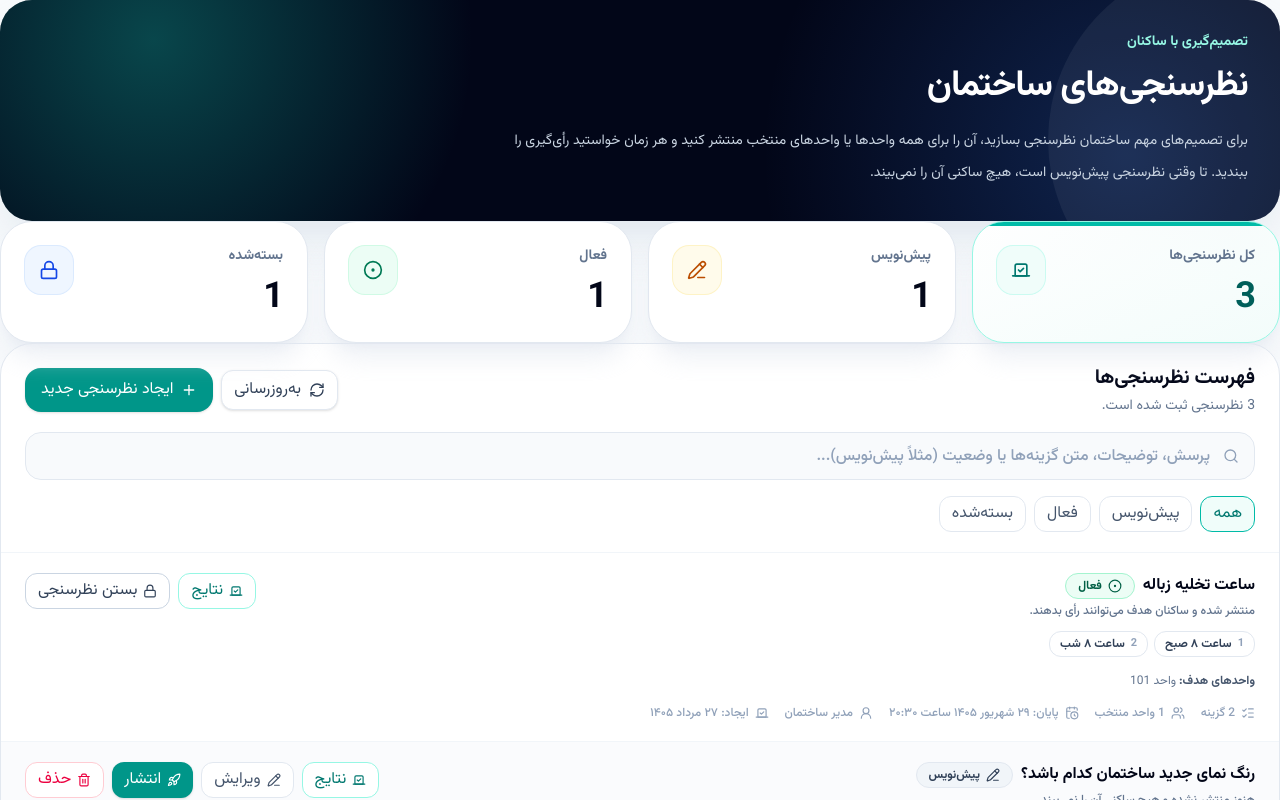
PollsSection › drops a deleted draft out of the list
Expected: the heading "رنگ نمای جدید ساختمان کدام باشد؟" is shown, [1021,763,1255,787]
Click the button "حذف" at (65,780), box [25,762,104,798]
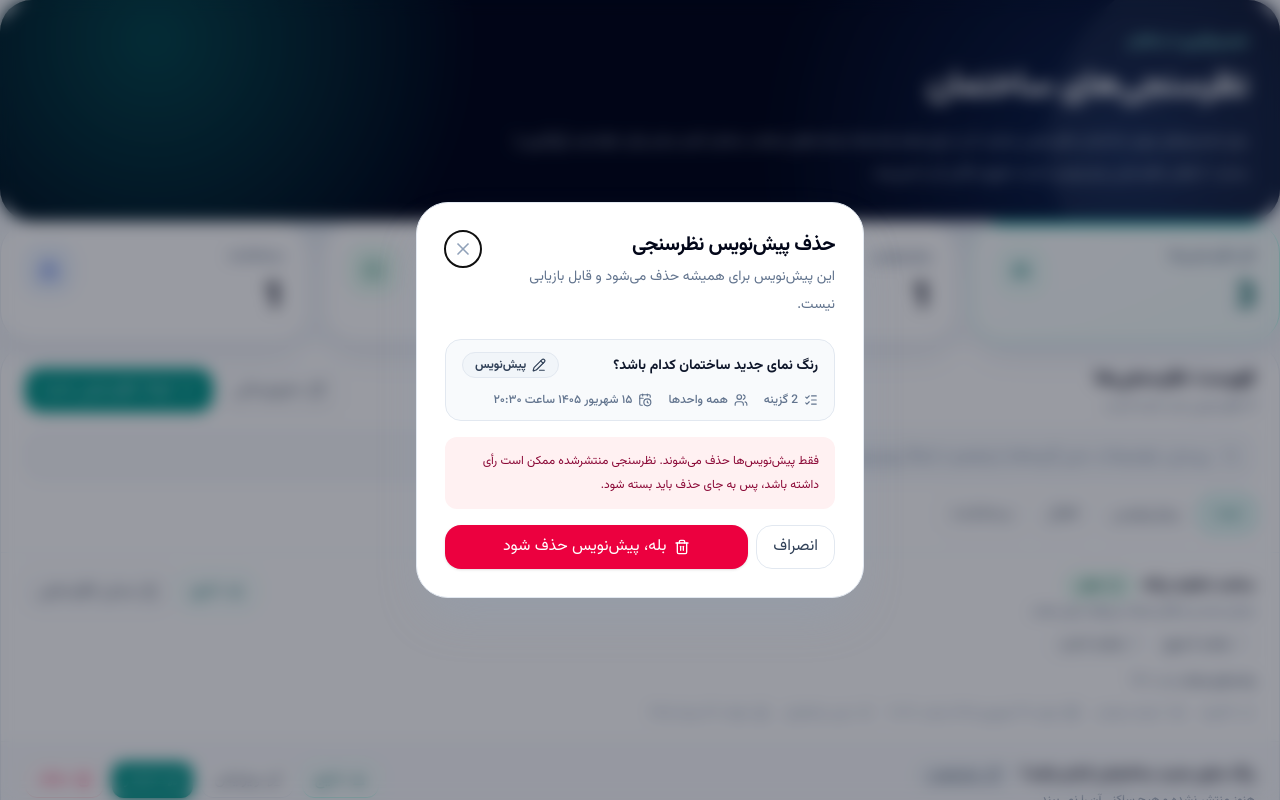
Click the button "بله، پیش‌نویس حذف شود" at (597,547), box [445,525,748,569]
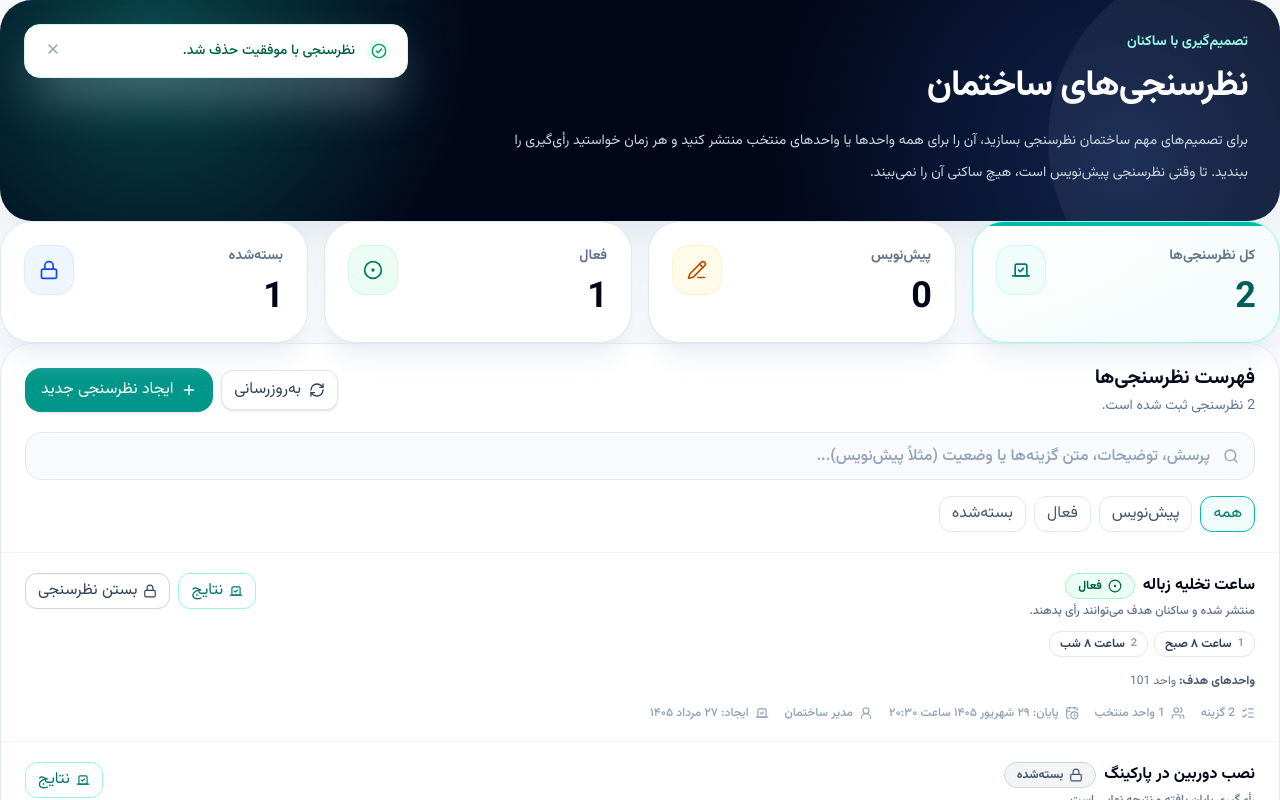
Expected: the heading "رنگ نمای جدید ساختمان کدام باشد؟" is gone
